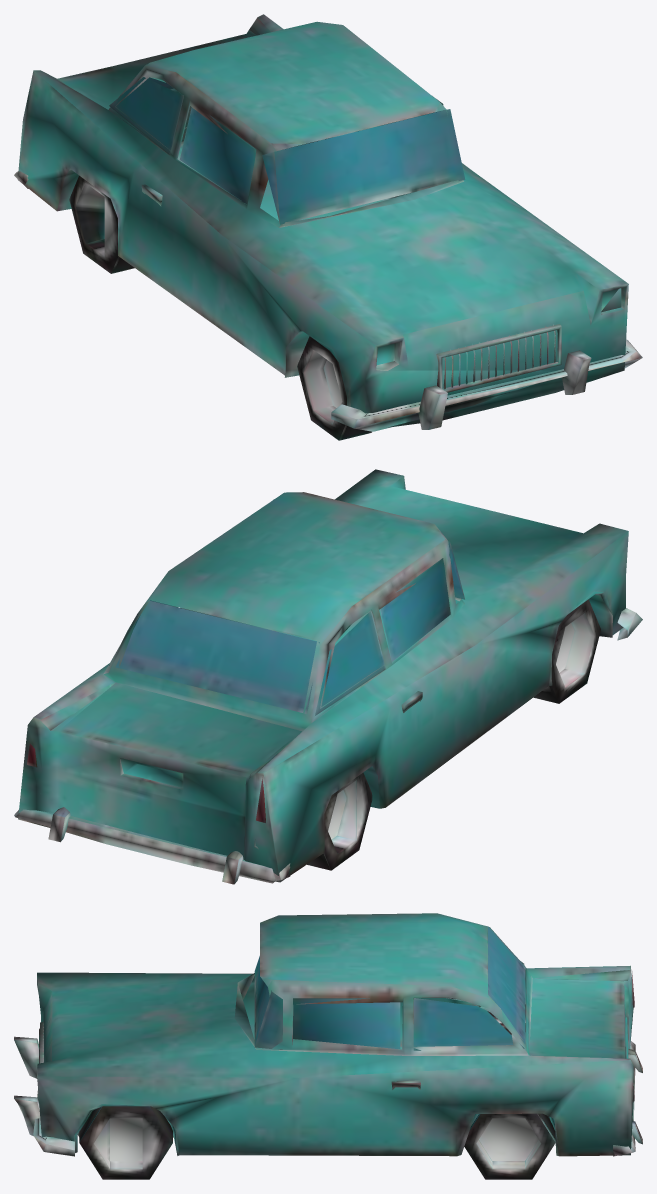
File: wreck-car.lod1.glb
3 views of the same model, one above another, from view 1: azimuth 30°, elevation 25°; view 2: azimuth 150°, elevation 25°; view 3: azimuth 270°, elevation 25° (orthographic). The views are drawn at different scales.
Visible parts, largest first — view 1: Object_2; view 2: Object_2; view 3: Object_2.
Boxes of the visible parts, x1,y1,x2,y2 form: Object_2: (14, 14, 642, 440); Object_2: (14, 469, 642, 884); Object_2: (14, 913, 642, 1179).
Size of the model in its own units: 2.18 by 1.53 by 4.77.
Materials: 1 (1 with a texture image).
